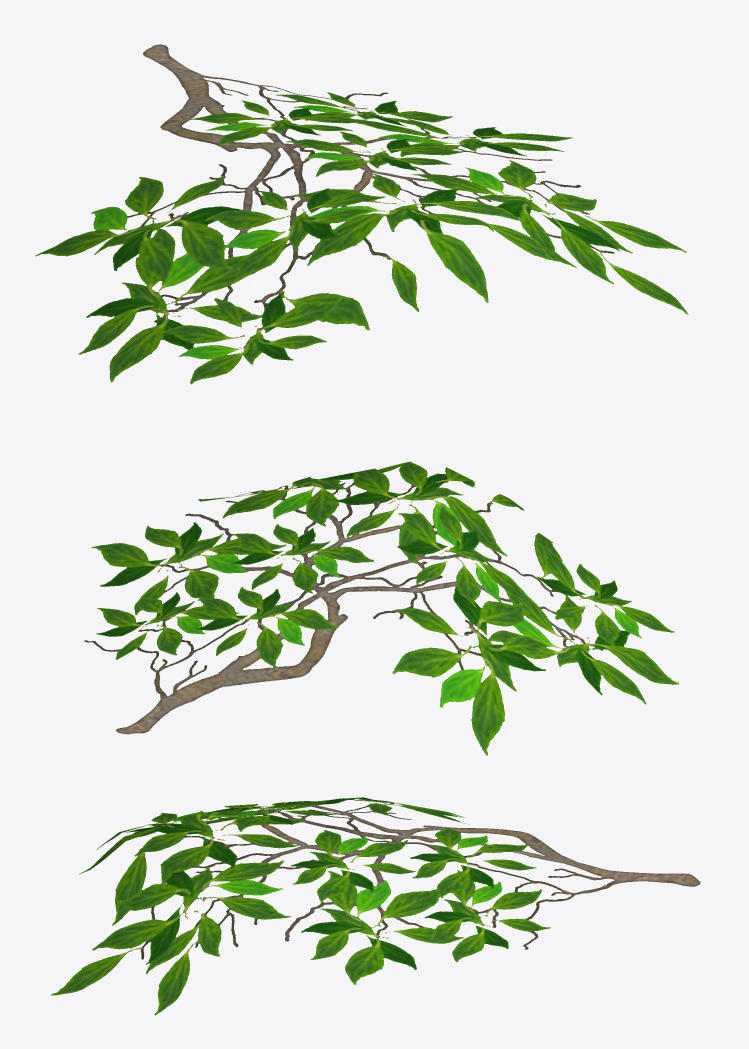
The model's file is SingleBranchBaseMesh1.FBX.
3 renders of one model, top to bottom at view 1: azimuth 30°, elevation 25°; view 2: azimuth 150°, elevation 25°; view 3: azimuth 270°, elevation 25°, orthographic. The views are drawn at different scales.
Visible parts, largest first — view 1: Object232; view 2: Object232; view 3: Object232.
Boxes of the visible parts, x1,y1,x2,y2 form: Object232: (35, 44, 688, 384); Object232: (84, 461, 678, 755); Object232: (51, 797, 700, 1015).
Bounding box in the file's own units: 108 × 21.54 × 122.
